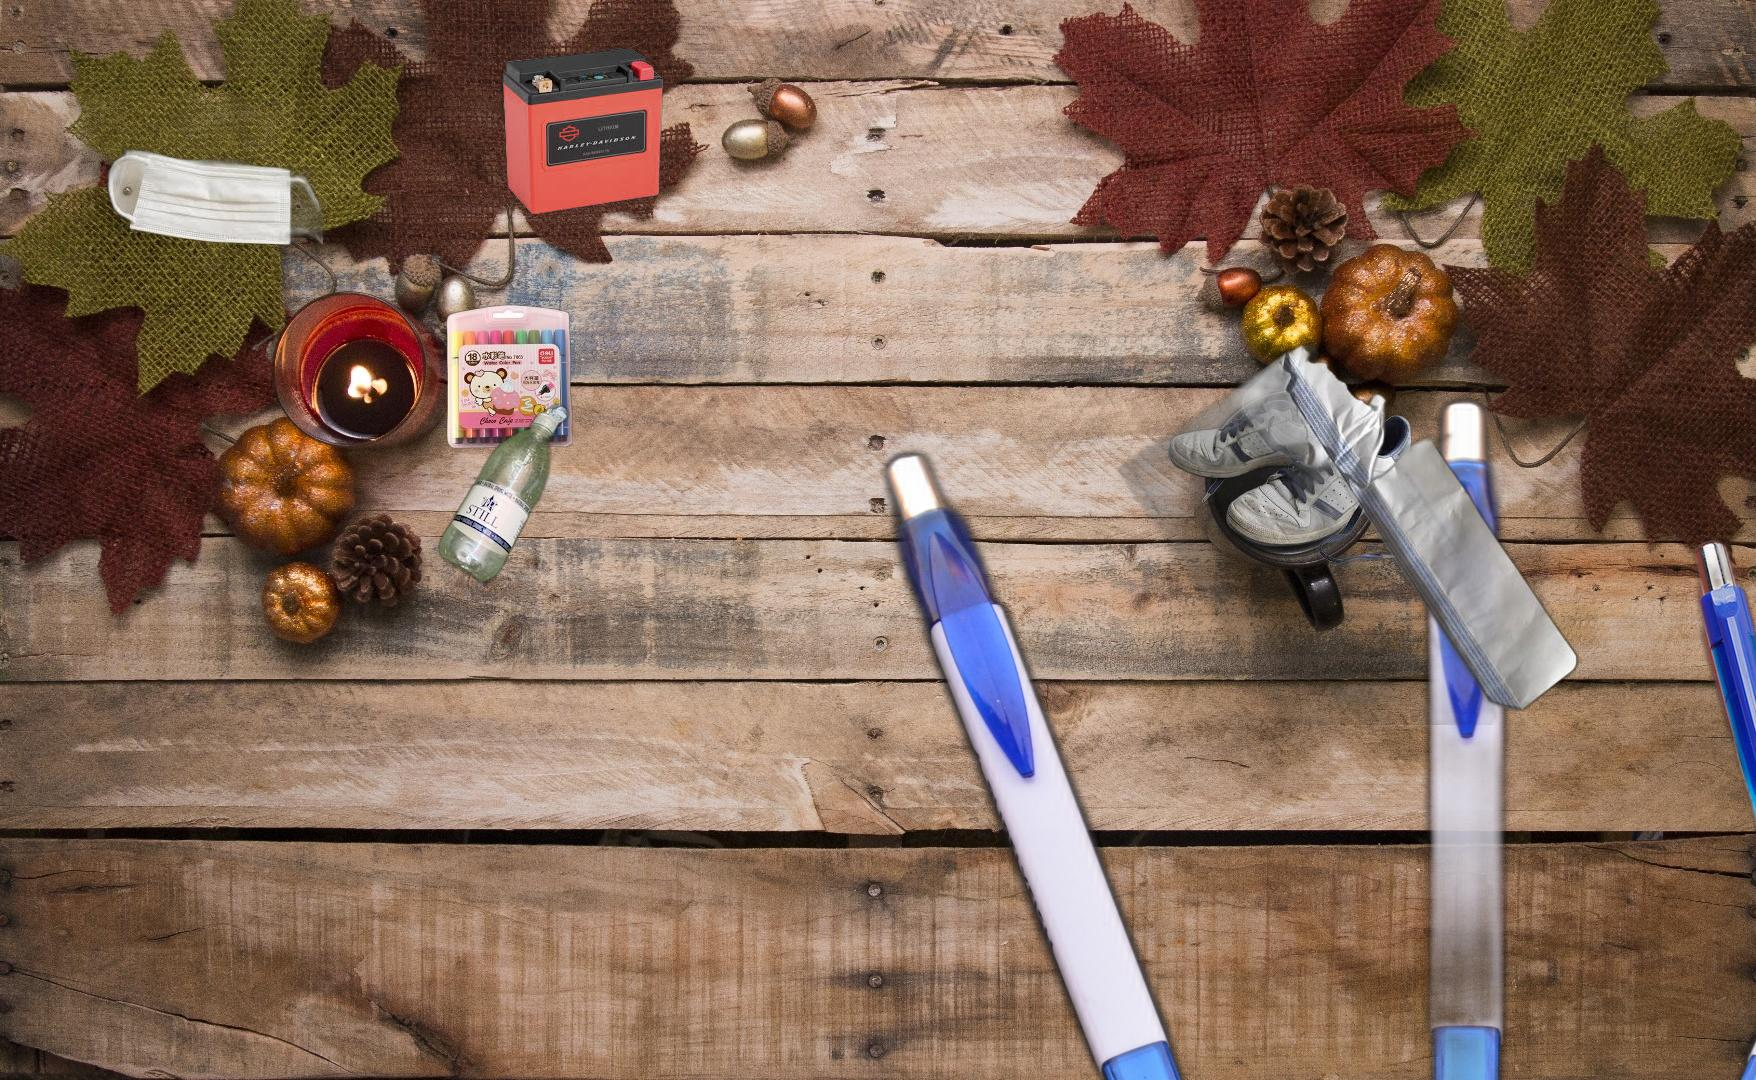battery: (500, 45, 666, 217)
paper: (1111, 341, 1599, 725)
penholder: (868, 389, 1756, 1080), (1686, 532, 1756, 1080), (443, 302, 576, 452)
plastic-bottles: (434, 399, 574, 588)
shoes: (1166, 398, 1415, 564)
trash: (103, 140, 324, 253)
